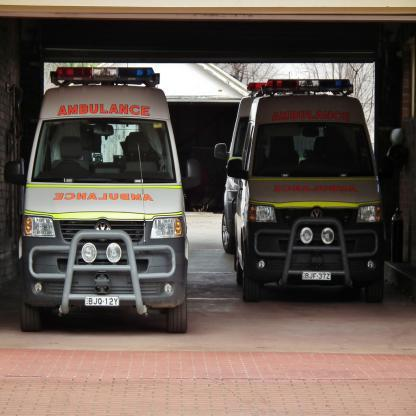Ambulance - v1 Ambulance last generate: (1, 65, 202, 336), (226, 81, 390, 307), (213, 79, 266, 249)
